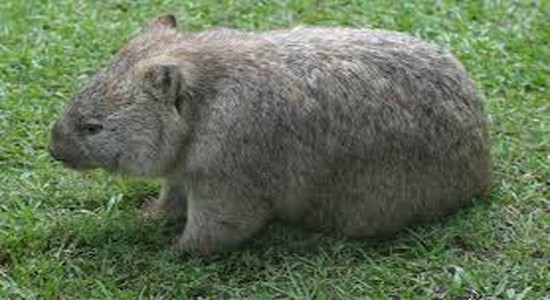Wombat: (42, 12, 489, 257)
